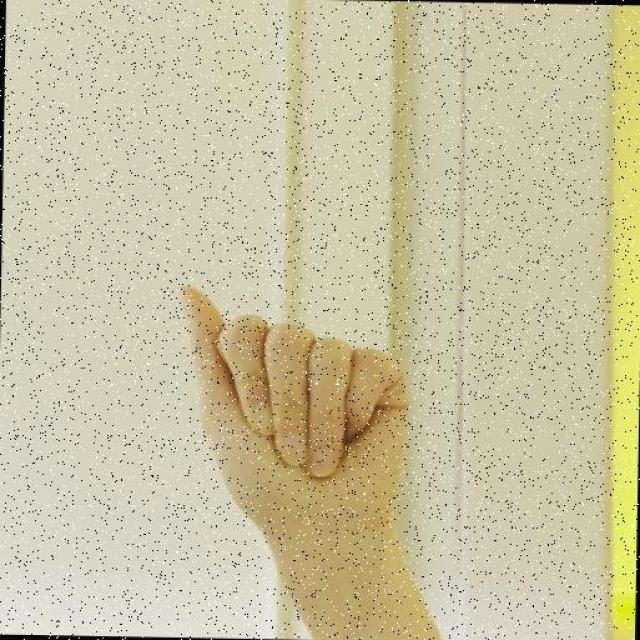A: (170, 284, 415, 546)
